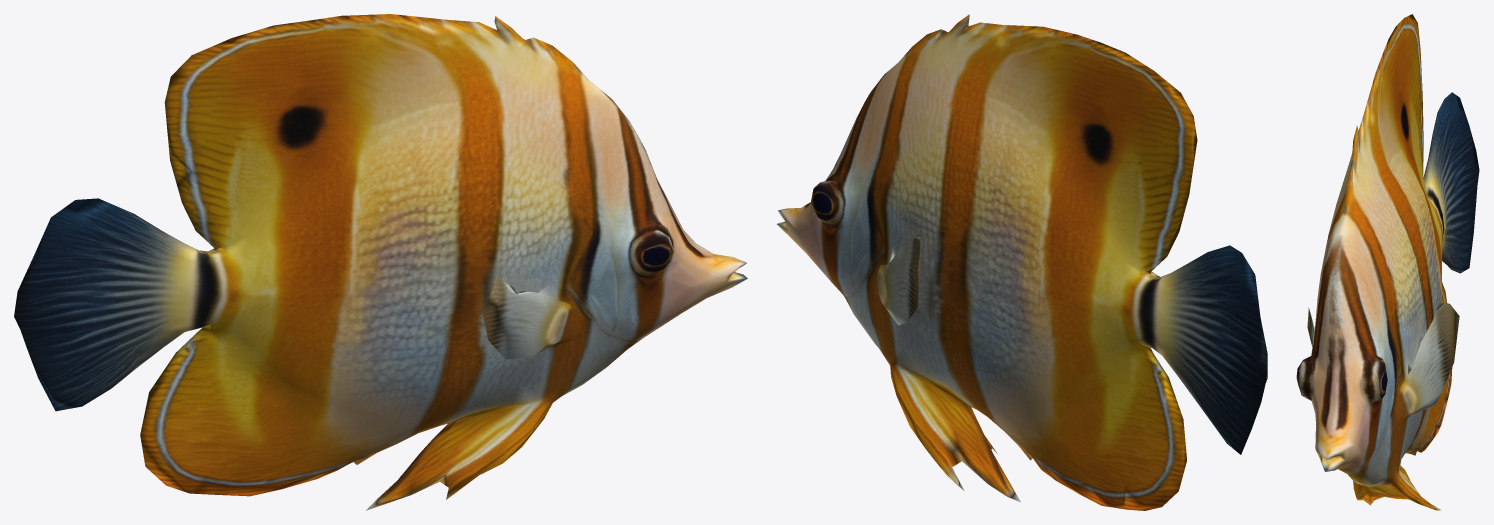
Rendered from tropicalfish_b3_single_1500.glb.
The picture shows the model from 3 angles, left to right: view 1: azimuth 30°, elevation 25°; view 2: azimuth 150°, elevation 25°; view 3: azimuth 270°, elevation 25°; orthographic projection. The views are drawn at different scales.
Size of the model in its own units: 0.8954 by 0.6946 by 0.2672.
Materials: 1 (1 with a texture image).
